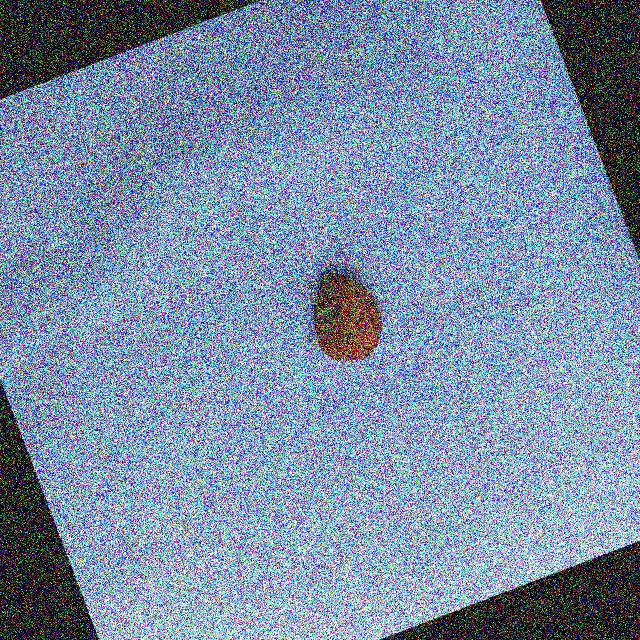grade3: (292, 258, 397, 377)
